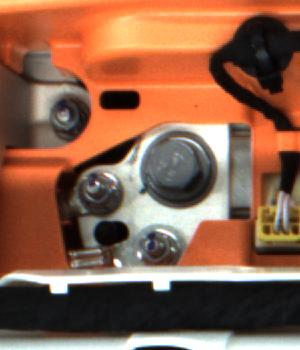nut_b: (133, 130, 221, 209)
screw_s: (74, 171, 114, 211), (42, 95, 79, 134), (136, 230, 176, 265)
